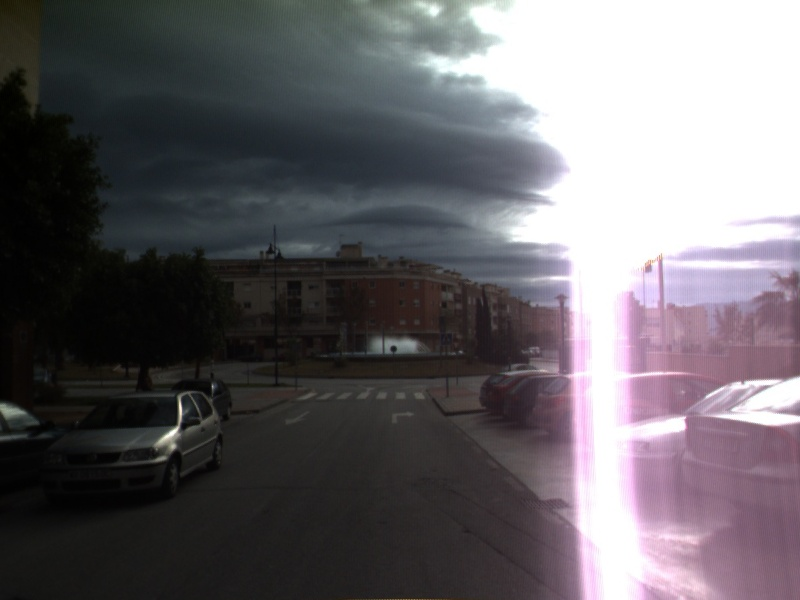RIGHT: (389, 408, 417, 425)
